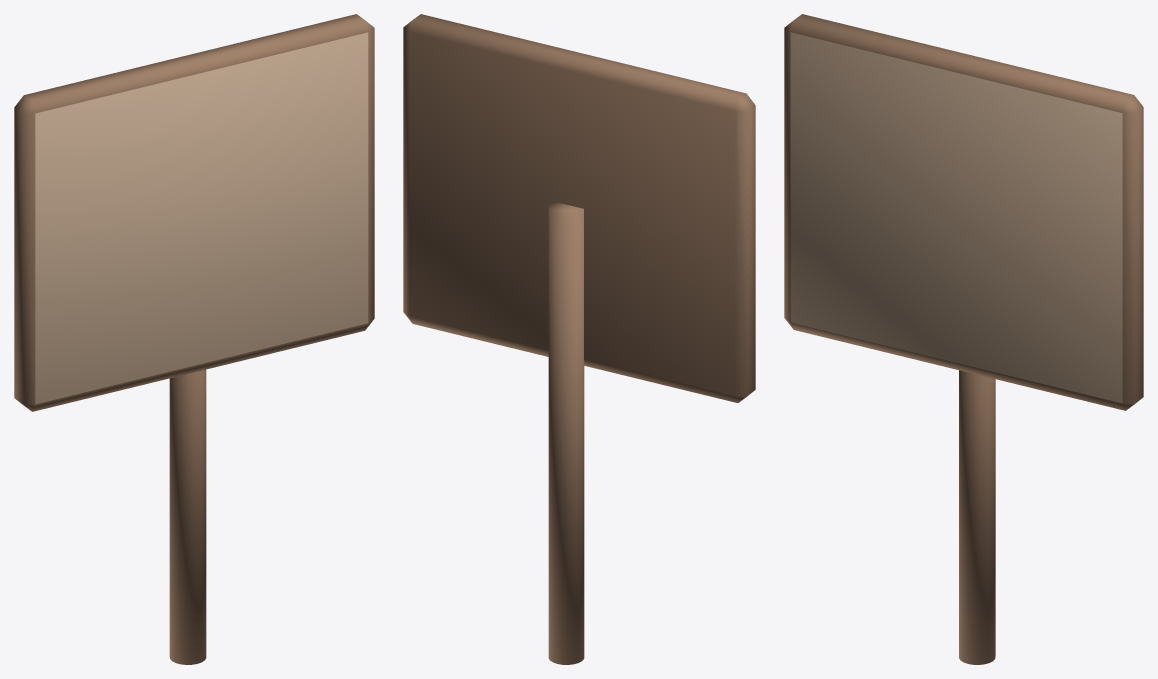
File: Singboard.fbx
The picture shows the model from 3 angles, left to right: view 1: azimuth 30°, elevation 25°; view 2: azimuth 150°, elevation 25°; view 3: azimuth 330°, elevation 25°; orthographic projection. The views are drawn at different scales.
Visible parts, largest first — view 1: obj1; view 2: obj1; view 3: obj1.
Part boxes in pixels (x1,y1,x2,y2): obj1: (14,14,374,664); obj1: (403,14,755,664); obj1: (784,14,1143,664).
Size of the model in its own units: 0.3762 by 0.6213 by 0.0491.
